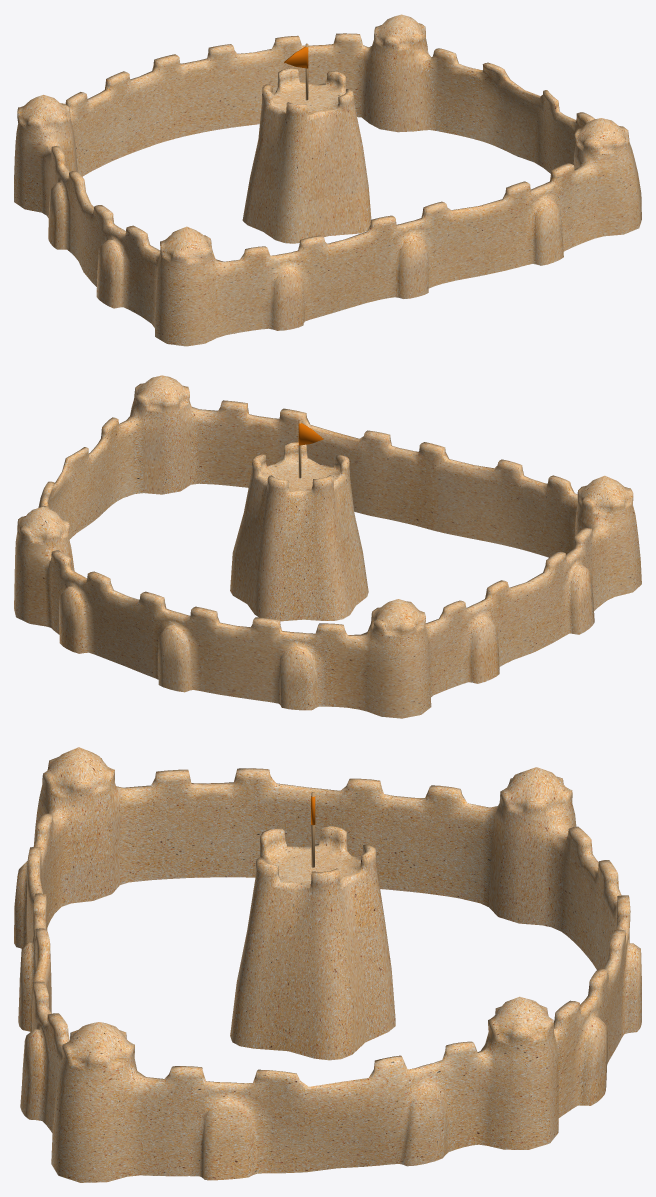
The model's file is low_poly_sandcastle.glb.
3 renders of one model, top to bottom at view 1: azimuth 30°, elevation 25°; view 2: azimuth 150°, elevation 25°; view 3: azimuth 270°, elevation 25°, orthographic. The views are drawn at different scales.
Parts seen in each view (by area): view 1: casteloPreSculpt.001, bandeira; view 2: casteloPreSculpt.001, bandeira; view 3: casteloPreSculpt.001.
Boxes of the visible parts, x1=… form: casteloPreSculpt.001: x1=14, y1=14, x2=641, y2=346; bandeira: x1=284, y1=43, x2=308, y2=100; casteloPreSculpt.001: x1=14, y1=375, x2=641, y2=718; bandeira: x1=298, y1=420, x2=323, y2=478; casteloPreSculpt.001: x1=14, y1=747, x2=641, y2=1182.
Bounding box in the file's own units: 19.8 × 6.64 × 16.5.
Materials: 3 (1 with a texture image).
